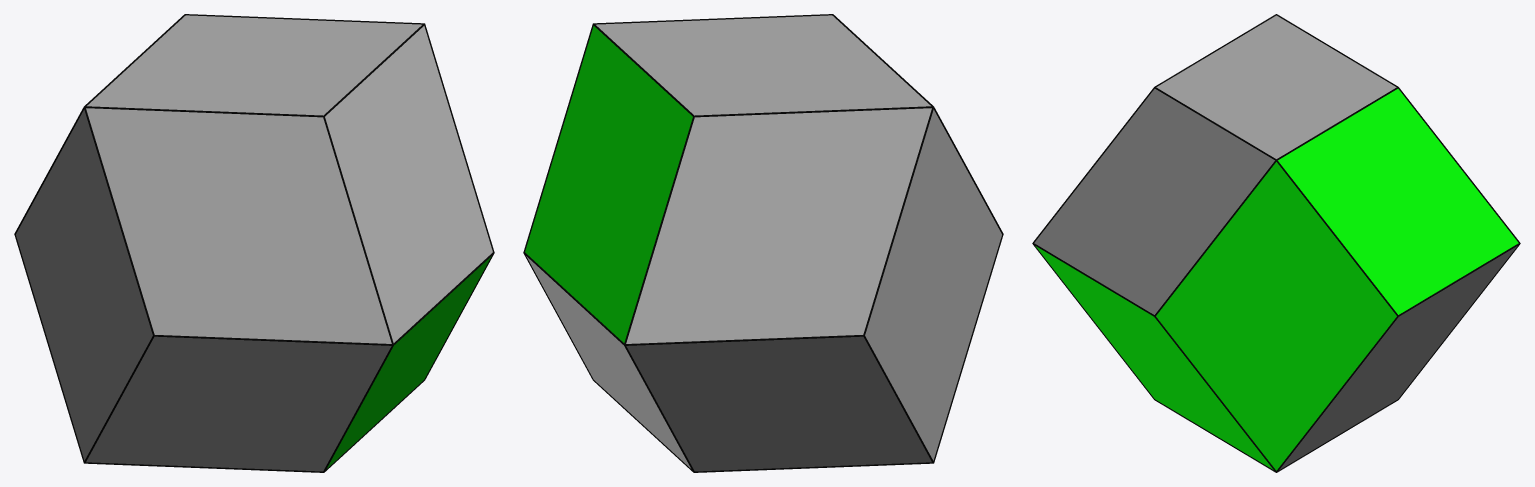
The model's file is RhombicDodecahedron3_3.glb.
The picture shows the model from 3 angles, left to right: view 1: azimuth 30°, elevation 25°; view 2: azimuth 150°, elevation 25°; view 3: azimuth 270°, elevation 25°; orthographic projection. The views are drawn at different scales.
Bounding box in the file's own units: 1.51 × 1.51 × 2.13.
